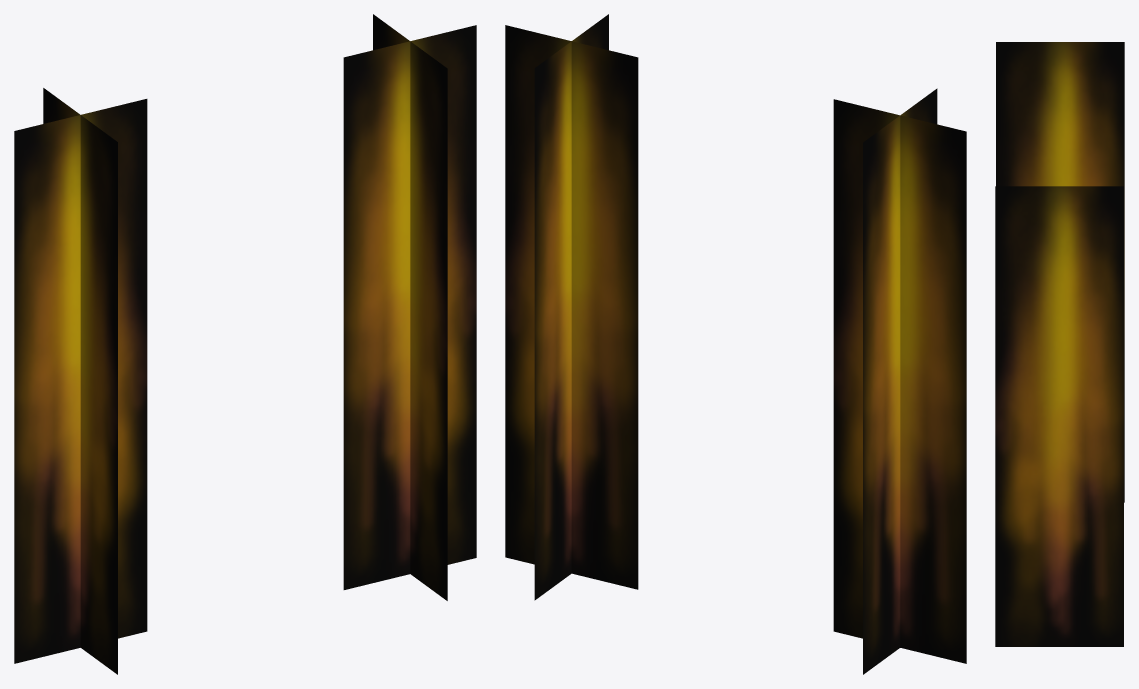
Rendered from EnemyFighterBones_wtf.obj.
3 renders of one model, left to right at view 1: azimuth 30°, elevation 25°; view 2: azimuth 150°, elevation 25°; view 3: azimuth 270°, elevation 25°, orthographic. The views are drawn at different scales.
Parts seen in each view (by area): view 1: group1; view 2: group1; view 3: group1.
Boxes of the visible parts, x1,y1,x2,y2 form: group1: [14, 14, 476, 674]; group1: [505, 14, 966, 674]; group1: [995, 42, 1124, 646].
Bounding box in the file's own units: 159 × 177 × 44.52.
